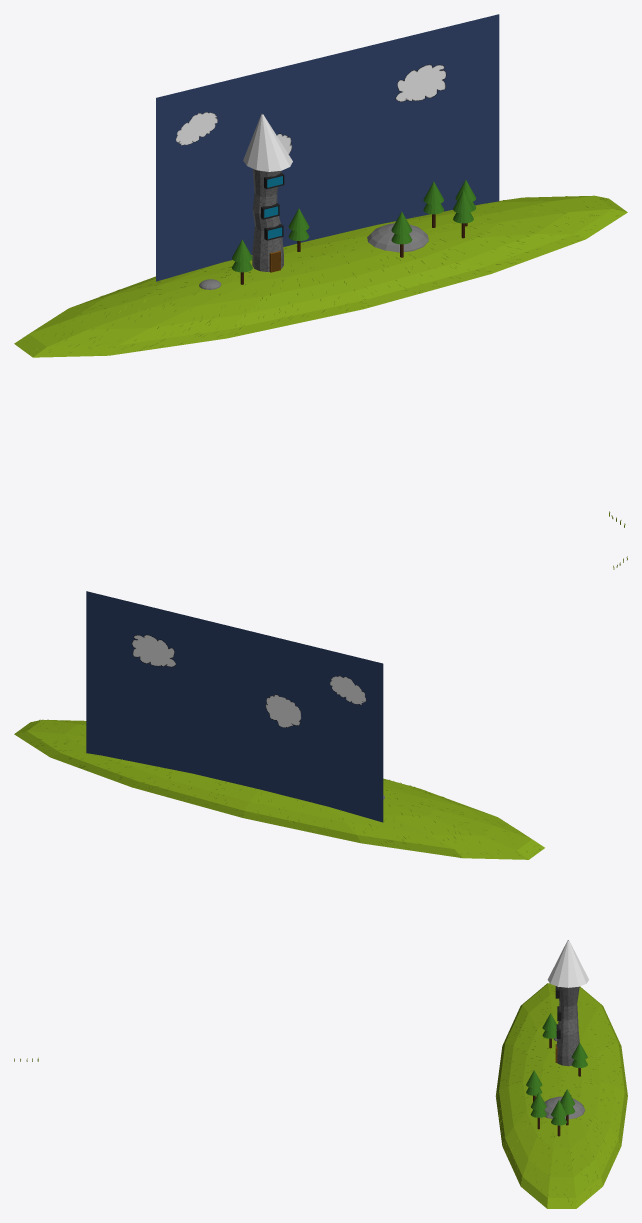
File: WizardTower.fbx
3 renders of one model, top to bottom at view 1: azimuth 30°, elevation 25°; view 2: azimuth 150°, elevation 25°; view 3: azimuth 270°, elevation 25°, orthographic. The views are drawn at different scales.
Parts seen in each view (by area): view 1: Plane, Sphere.001, Circle, Sphere.002; view 2: Plane, Sphere.001; view 3: Sphere.001, Circle.
Part boxes in pixels (<box>): Plane: <box>156,14,499,281</box>; Sphere.001: <box>14,195,627,357</box>; Circle: <box>243,113,292,271</box>; Sphere.002: <box>367,223,428,252</box>; Plane: <box>86,591,383,822</box>; Sphere.001: <box>14,719,544,859</box>; Sphere.001: <box>495,983,627,1208</box>; Circle: <box>547,940,588,1066</box>.
Size of the model in its own units: 11555 by 3687 by 13302.
